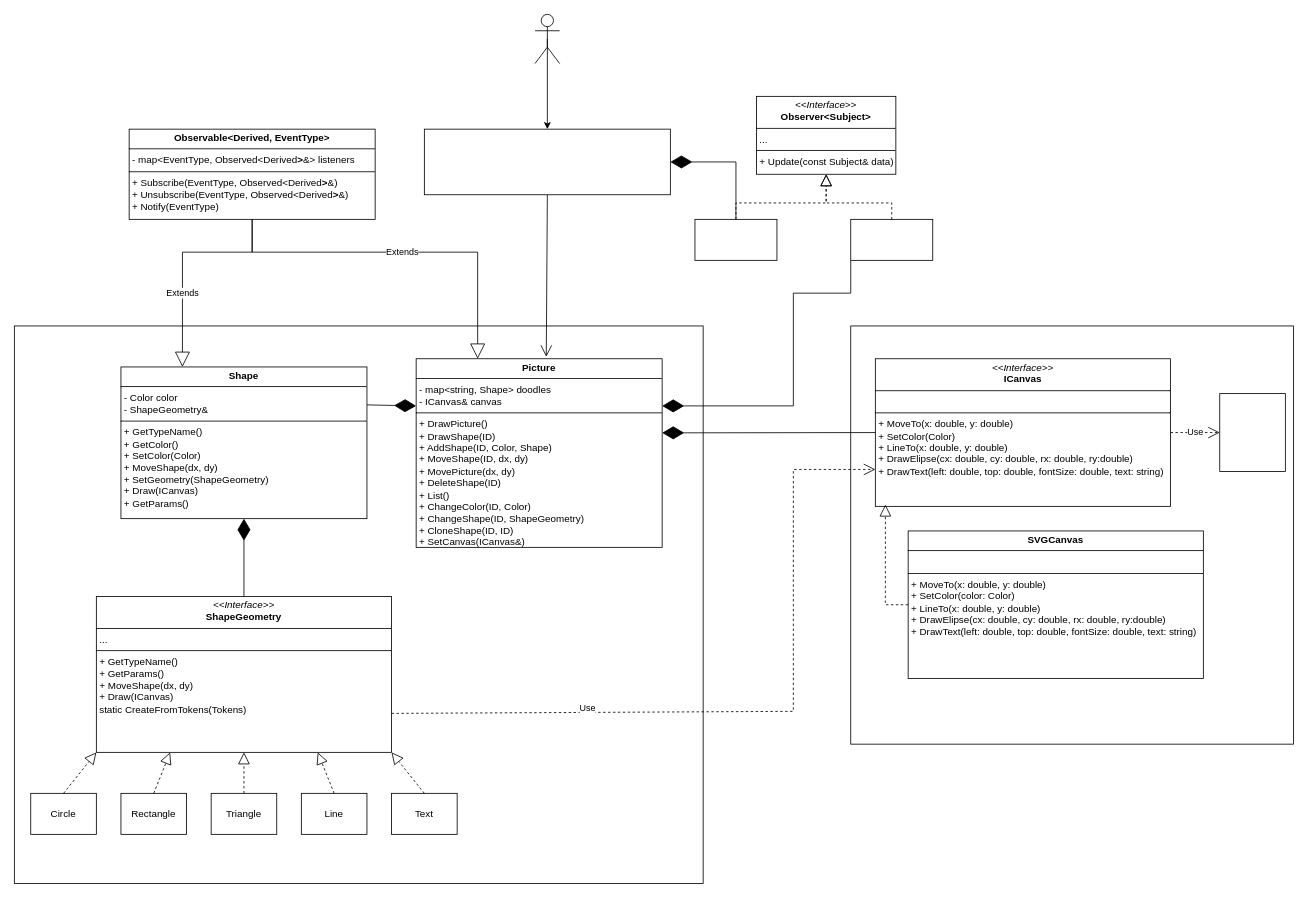
Image size: 1308x898. Some labels were removed from this diagram. Here are the shapes that lost their labels. From the top down, the box of each, then its label:
(424, 128, 670, 195): DrawerIO - Picture picture + HandleInput(vector<string> Tokens)
(694, 219, 777, 260): PictureObserver
(850, 219, 933, 260): ShapeObserver
(1219, 393, 1285, 472): Color ... ToString() FromString()
(850, 325, 1294, 744): gfx
(14, 325, 703, 884): shapes
